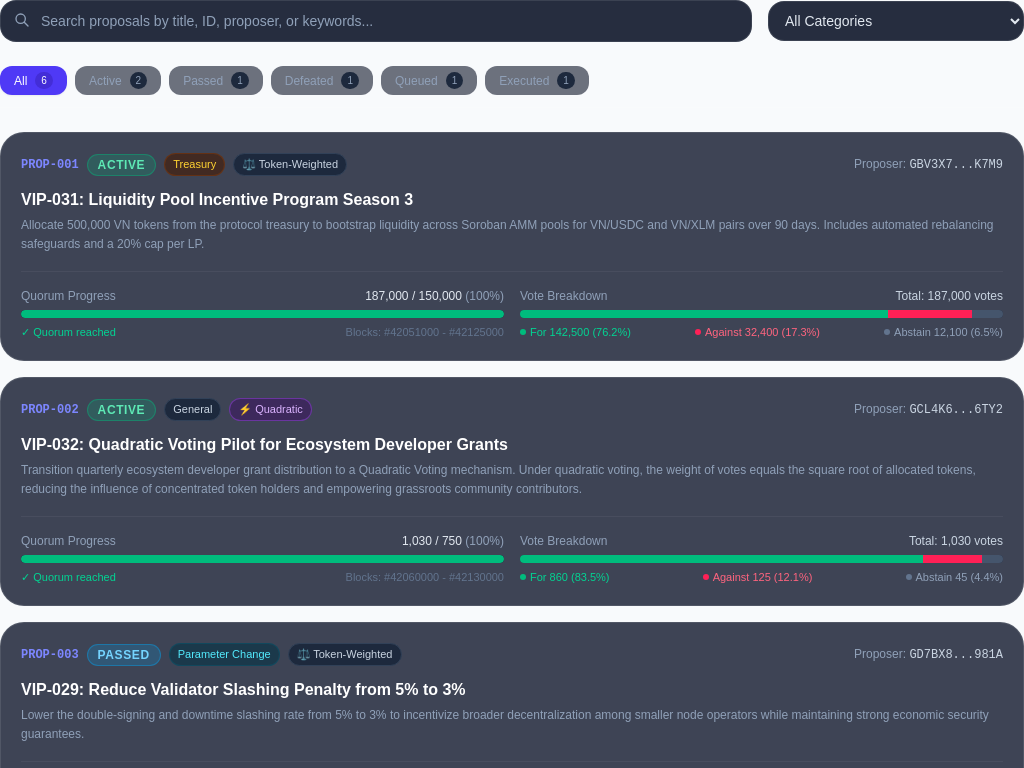
Test: ProposalList Component › filters proposals when clicking status tabs
Step 1. Click the tab "Passed 1" → [216, 81], box [169,66,263,95]
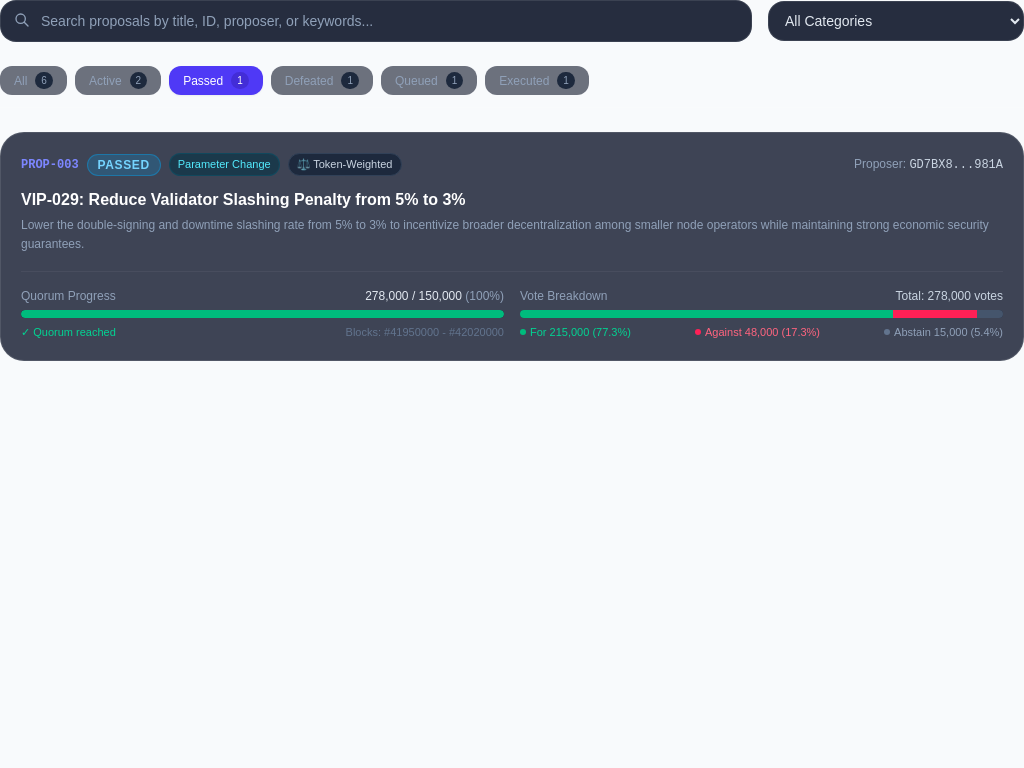
Check: the heading "VIP-029: Reduce Validator Slashing Penalty from 5% to 3%" is shown, box [21,191,466,208]
Check: the heading "VIP-031: Liquidity Pool Incentive Program Season 3" is gone
